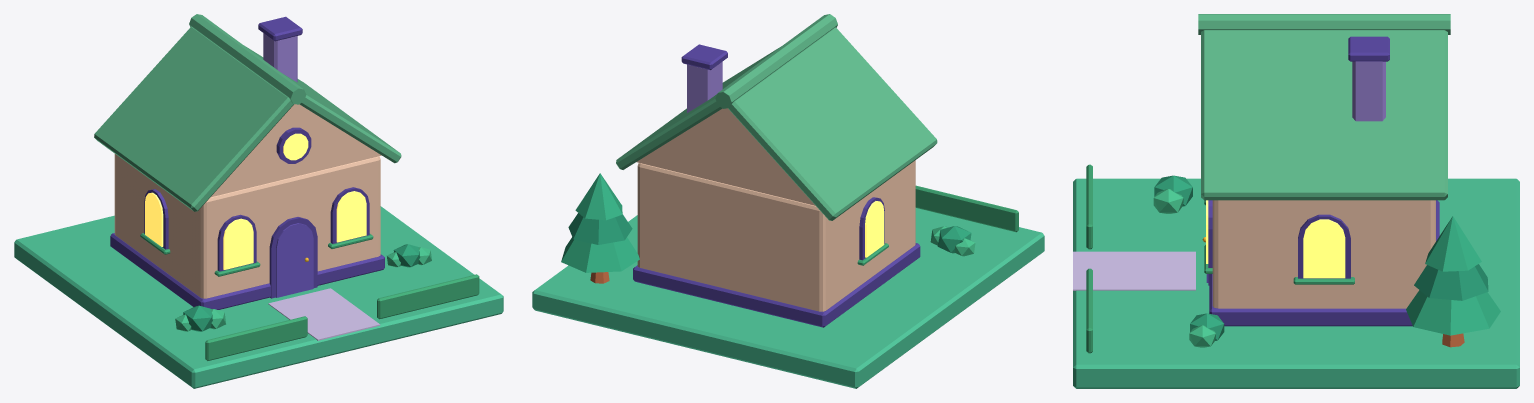
The model's file is bld_house_peach.glb.
The picture shows the model from 3 angles, left to right: view 1: azimuth 30°, elevation 25°; view 2: azimuth 150°, elevation 25°; view 3: azimuth 270°, elevation 25°; orthographic projection. The views are drawn at different scales.
Parts seen in each view (by area): view 1: bld_house_peach; view 2: bld_house_peach; view 3: bld_house_peach.
Boxes of the visible parts, x1,y1,x2,y2 form: bld_house_peach: [14, 14, 503, 388]; bld_house_peach: [532, 14, 1044, 388]; bld_house_peach: [1073, 14, 1519, 388].
Size of the model in its own units: 8 by 5.57 by 8.
